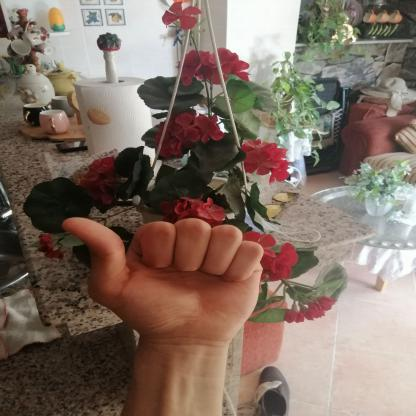DAD: (47, 204, 275, 352)
